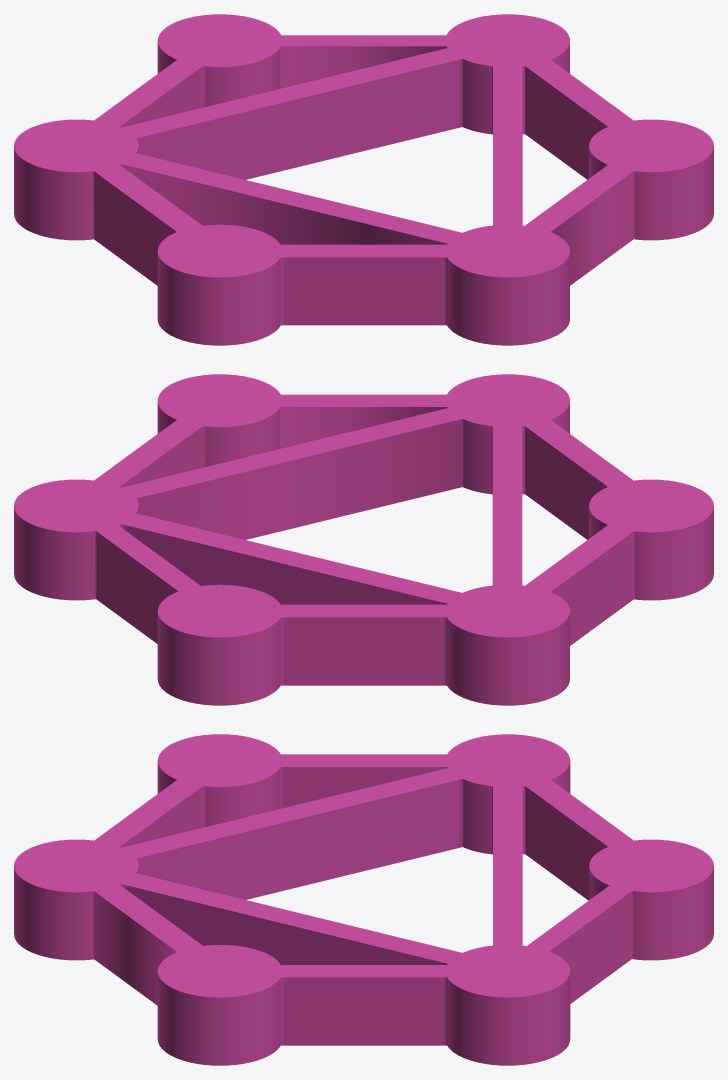
The model's file is graphql.gltf.
The picture shows the model from 3 angles, top to bottom: view 1: azimuth 30°, elevation 25°; view 2: azimuth 150°, elevation 25°; view 3: azimuth 270°, elevation 25°; orthographic projection.
Visible parts, largest first — view 1: Curve.035; view 2: Curve.035; view 3: Curve.035.
Boxes of the visible parts, x1,y1,x2,y2 form: Curve.035: [14, 14, 713, 345]; Curve.035: [14, 374, 713, 705]; Curve.035: [14, 734, 713, 1065].
Bounding box in the file's own units: 0.6629 × 0.08 × 0.7445.
